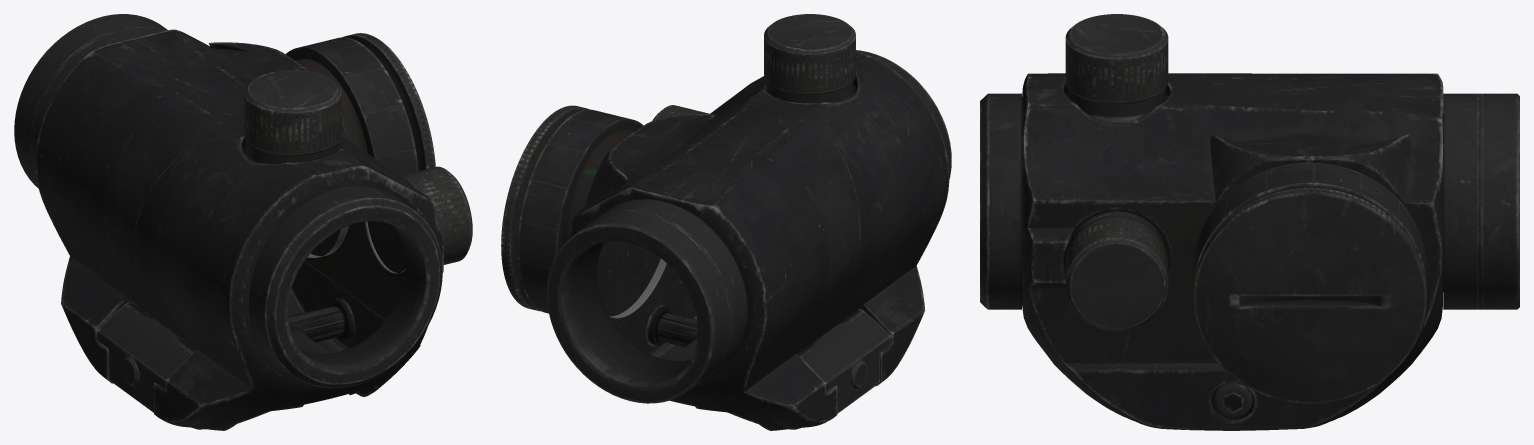
File: reflex-sight.glb
The picture shows the model from 3 angles, left to right: view 1: azimuth 30°, elevation 25°; view 2: azimuth 150°, elevation 25°; view 3: azimuth 270°, elevation 25°; orthographic projection. The views are drawn at different scales.
Visible parts, largest first — view 1: MicroGeometry; view 2: MicroGeometry; view 3: MicroGeometry.
Boxes of the visible parts, x1,y1,x2,y2 form: MicroGeometry: [14, 14, 472, 430]; MicroGeometry: [501, 14, 951, 430]; MicroGeometry: [980, 14, 1519, 430].
Bounding box in the file's own units: 0.1294 × 0.1364 × 0.1938.
1 material, 1 textured.
